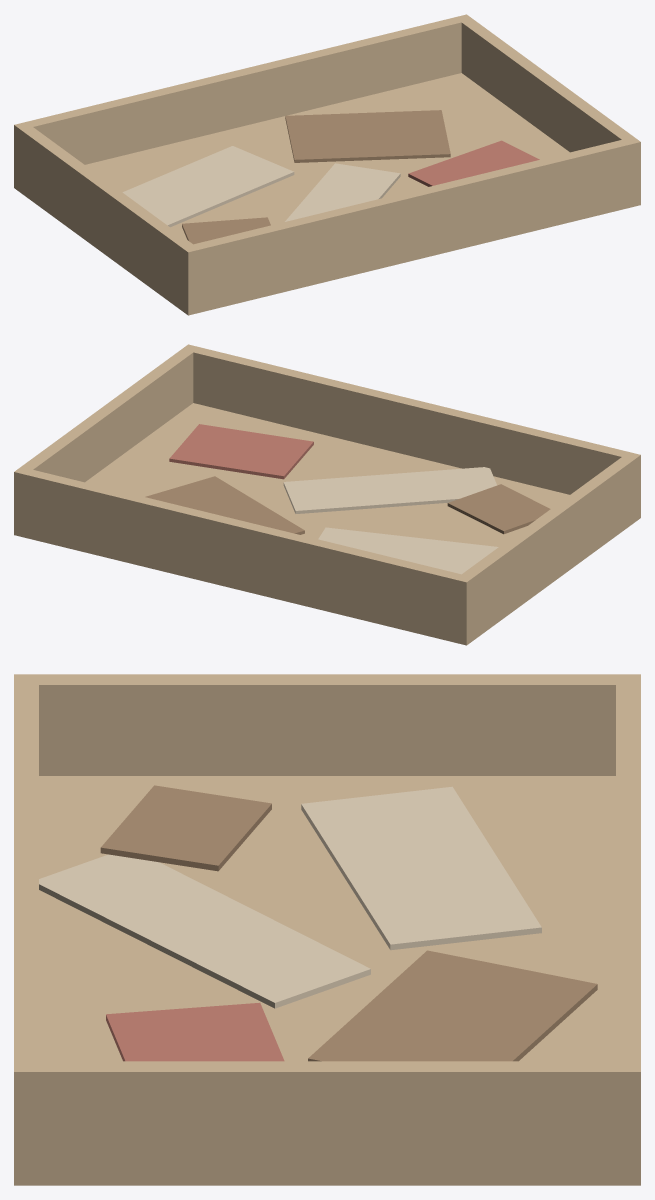
Rendered from prop-leather-offcut-tray.fbx.
The picture shows the model from 3 angles, top to bottom: view 1: azimuth 30°, elevation 25°; view 2: azimuth 150°, elevation 25°; view 3: azimuth 270°, elevation 25°; orthographic projection. The views are drawn at different scales.
Parts seen in each view (by area): view 1: prop-leather-offcut-tray; view 2: prop-leather-offcut-tray; view 3: prop-leather-offcut-tray.
Boxes of the visible parts, x1,y1,x2,y2 form: prop-leather-offcut-tray: (14, 14, 640, 315); prop-leather-offcut-tray: (14, 344, 640, 645); prop-leather-offcut-tray: (14, 674, 640, 1185).
Size of the model in its own units: 30 by 4 by 20.
